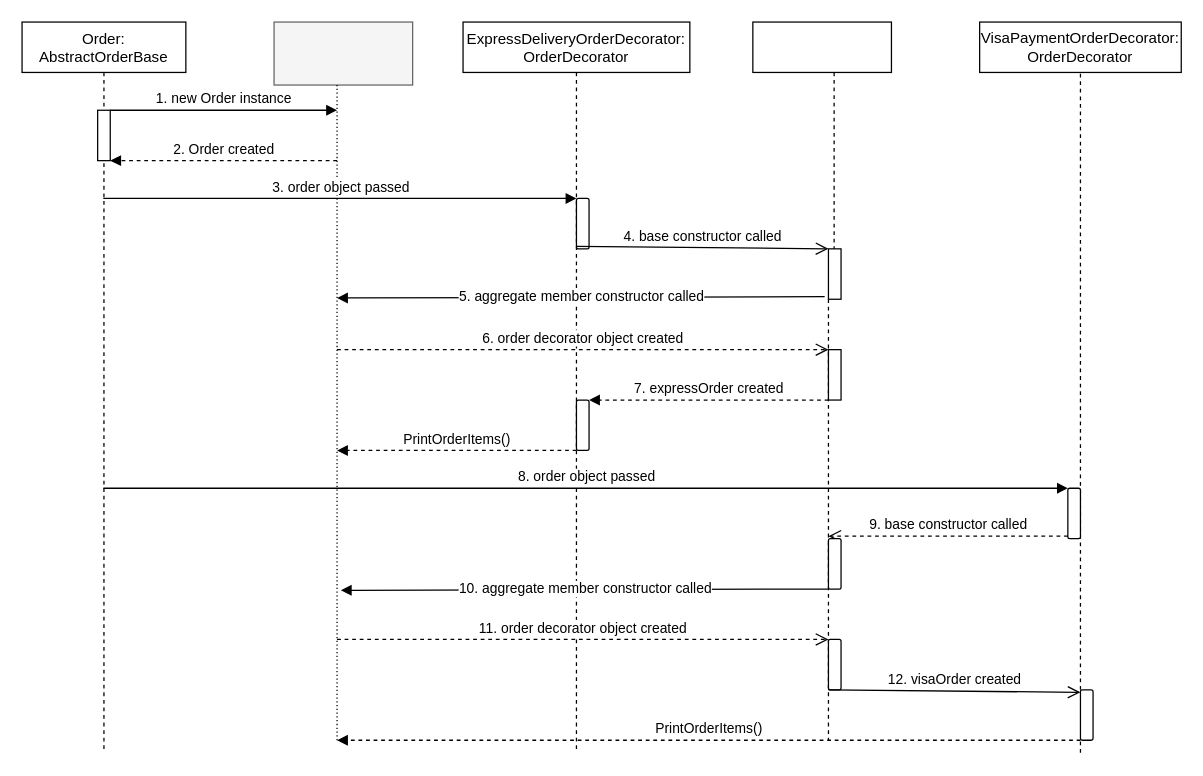
Some shapes in this 1203 by 776 pixel diagram are drawn without their labels. Here are the shapes that lost their labels. From the top down, the centre of each, then its label:
At (x=343, y=53): "AbstractOrderBase".
At (x=821, y=46): "OrderDecorator: AbstractOrderBase".
